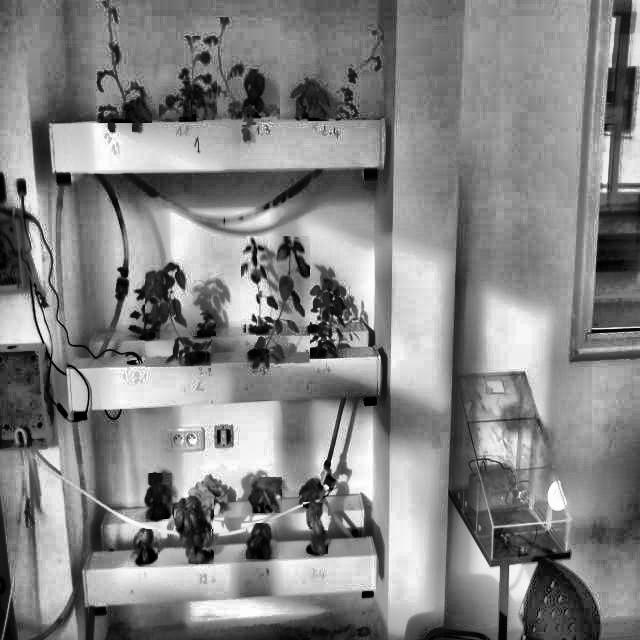plants: (196, 17, 280, 125), (246, 236, 310, 367), (145, 260, 211, 367), (97, 1, 152, 123), (308, 30, 384, 118), (159, 36, 218, 121), (241, 241, 277, 333), (308, 279, 347, 358), (174, 498, 214, 564), (129, 284, 167, 339), (142, 473, 172, 519), (304, 502, 328, 554), (128, 529, 158, 567), (251, 477, 282, 513), (246, 523, 277, 559), (300, 476, 323, 507), (191, 310, 216, 336)
